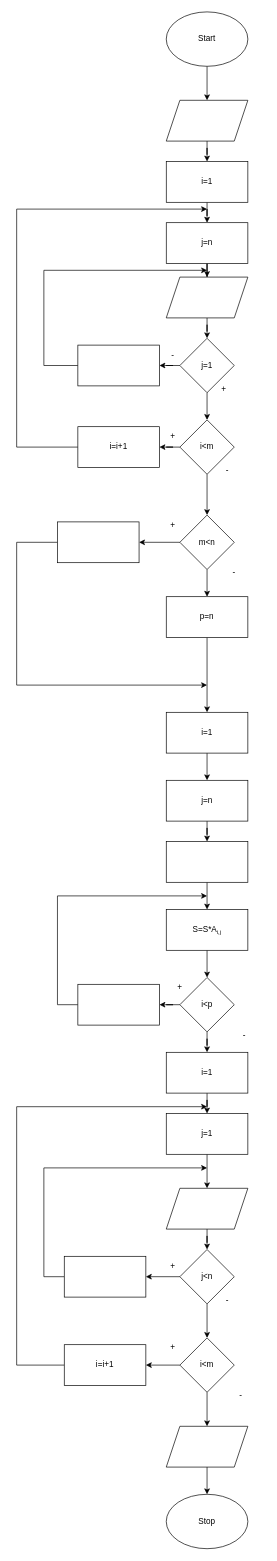
This 277x1561 diagram has some shape labels left out. Each missing label, with the centre of its shape:
"i=i+1 j=j-1" goes at point 118,1004.
"j=j+1" goes at point 105,1276.
"j=j-1" goes at point 118,365.
"P=m" goes at point 98,542.
"S=1" goes at point 207,861.
"Vstup A i,j" goes at point 207,297.
"Vstup: m,n" goes at point 207,120.
"Vystup A i,j" goes at point 207,1208.
"Vystup: S" goes at point 207,1446.
